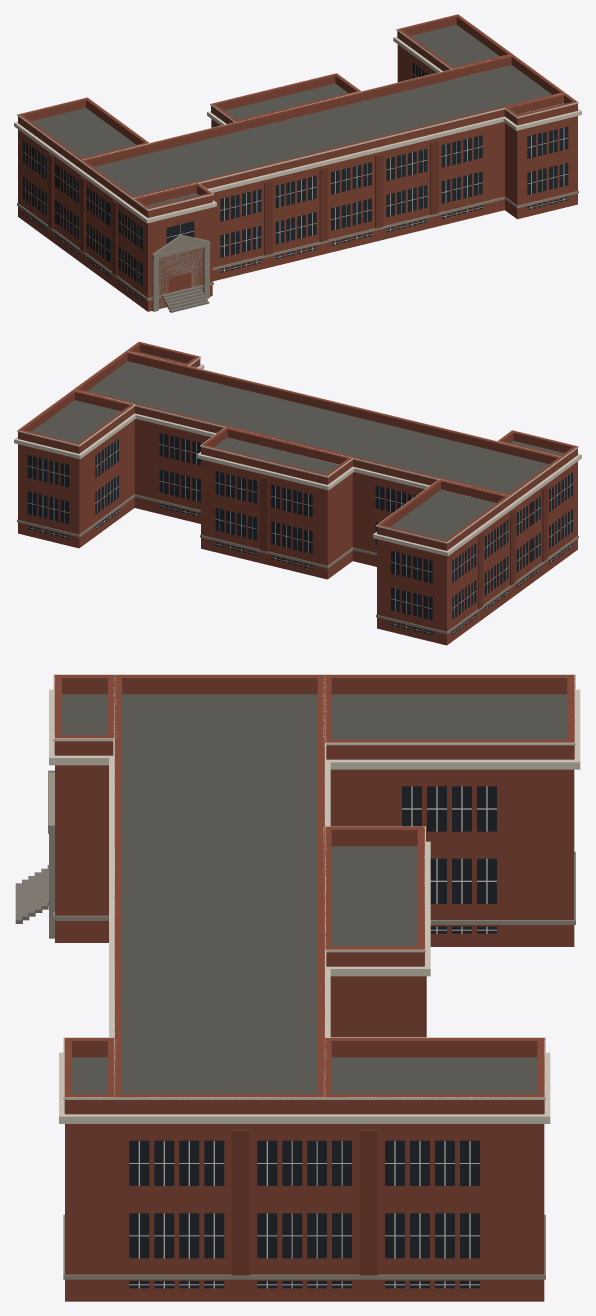
Rendered from u-m-rose-school-1961.glb.
3 views of the same model, one above another, from view 1: azimuth 30°, elevation 25°; view 2: azimuth 150°, elevation 25°; view 3: azimuth 270°, elevation 25° (orthographic). The views are drawn at different scales.
Parts seen in each view (by area): view 1: u_brick, u_tar, u_glass, u_trim, u_stone, u_brick2, u_sash, u_base; view 2: u_brick, u_tar, u_glass, u_trim, u_sash, u_brick2, u_stone; view 3: u_brick, u_tar, u_glass, u_trim, u_brick2, u_stone, u_sash, u_base.
Boxes of the visible parts, x1,y1,x2,y2 form: u_brick: (18, 14, 577, 311); u_tar: (31, 24, 564, 207); u_glass: (23, 63, 568, 300); u_trim: (14, 14, 581, 223); u_stone: (17, 190, 578, 311); u_brick2: (48, 140, 438, 275); u_sash: (23, 64, 567, 299); u_base: (161, 285, 209, 312); u_brick: (18, 342, 577, 645); u_tar: (31, 352, 564, 540); u_glass: (27, 433, 572, 635); u_trim: (14, 341, 581, 556); u_sash: (27, 434, 572, 633); u_brick2: (260, 476, 547, 609); u_stone: (17, 494, 578, 634); u_brick: (54, 675, 574, 1301); u_tar: (62, 694, 567, 1093); u_glass: (129, 786, 496, 1288); u_trim: (49, 674, 580, 1123); u_brick2: (231, 976, 426, 1275); u_stone: (48, 770, 575, 1279); u_sash: (129, 786, 496, 1288); u_base: (15, 865, 48, 923).
Size of the model in its own units: 50.6 by 11.3 by 28.27.
